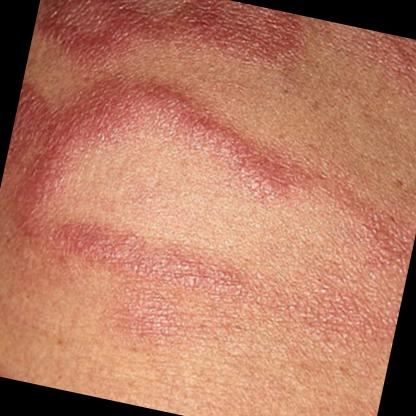Leprosy: (0, 55, 416, 380), (32, 0, 315, 96)
